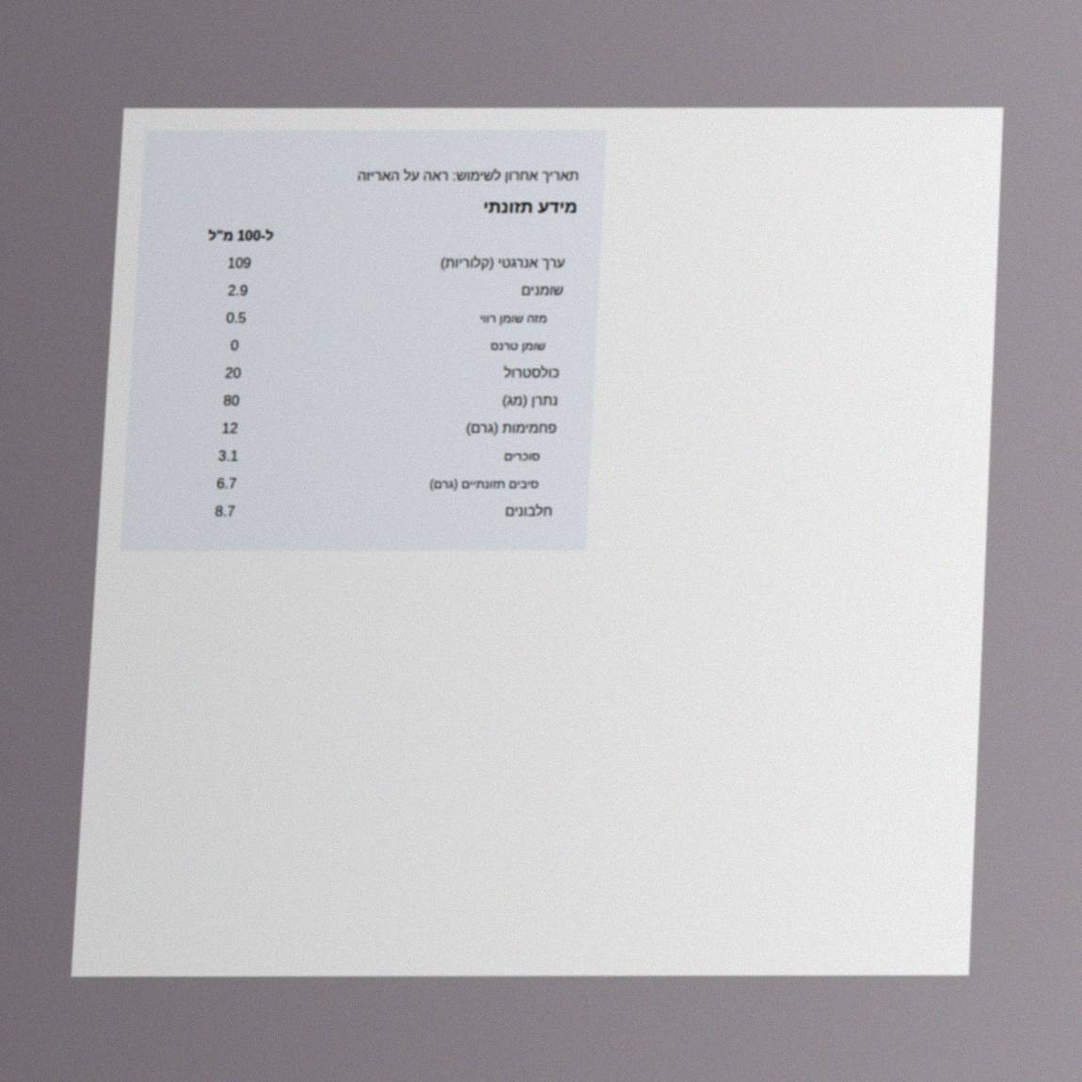carbs: (220, 419, 240, 437)
energy: (225, 254, 253, 272)
fat: (226, 282, 250, 300)
protein: (213, 502, 237, 521)
